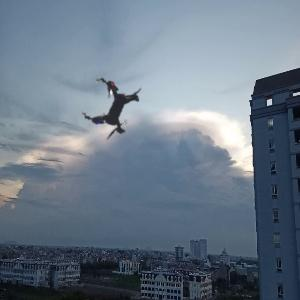drone: (58, 55, 171, 168)
